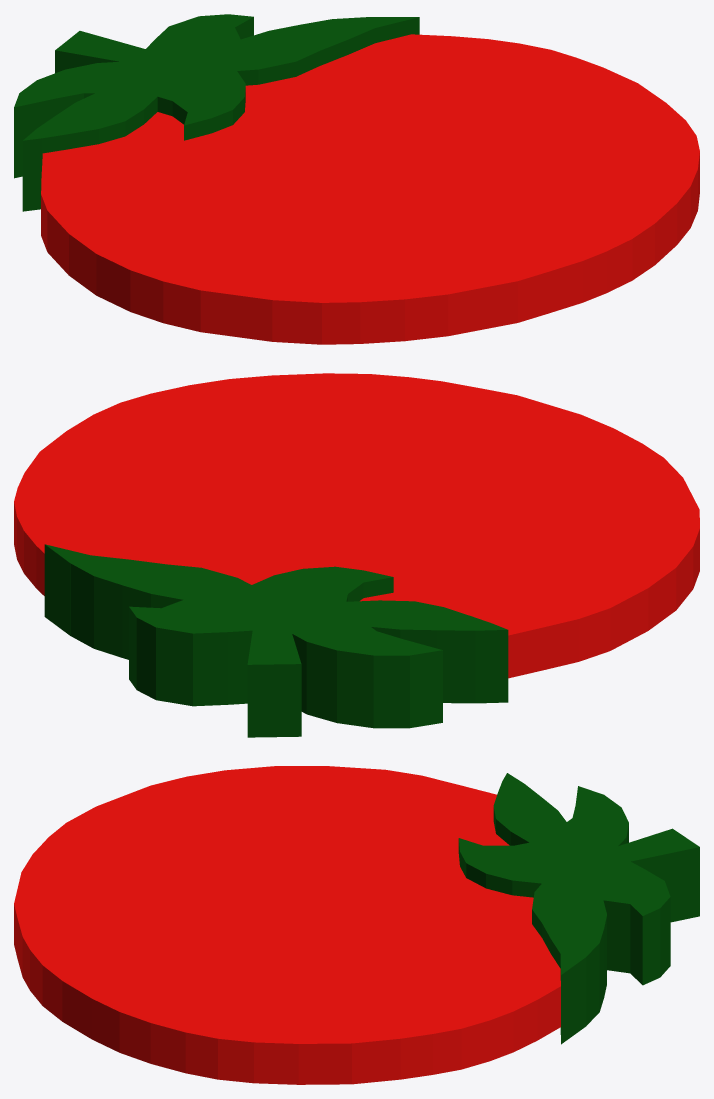
Rendered from tomato.dae.
3 renders of one model, top to bottom at view 1: azimuth 30°, elevation 25°; view 2: azimuth 150°, elevation 25°; view 3: azimuth 270°, elevation 25°, orthographic. The views are drawn at different scales.
Visible parts, largest first — view 1: tomato; view 2: tomato; view 3: tomato.
Boxes of the visible parts, x1,y1,x2,y2 form: tomato: (14, 14, 699, 344); tomato: (14, 373, 699, 737); tomato: (14, 766, 699, 1084).
Bounding box in the file's own units: 1.9 × 0.2215 × 1.99.
